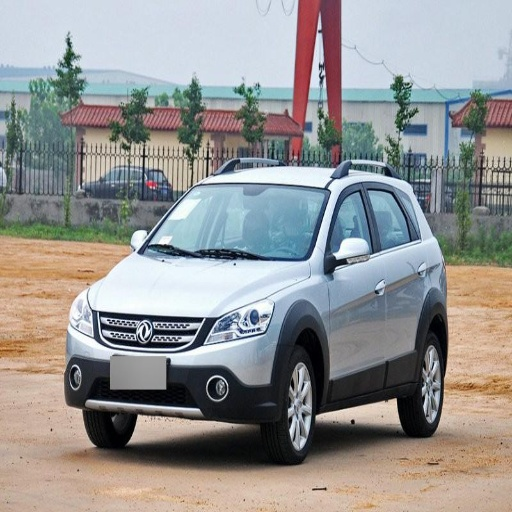front_bumper: (68, 310, 281, 424)
front_glass: (138, 184, 330, 260)
front_left_door: (325, 182, 387, 396)
